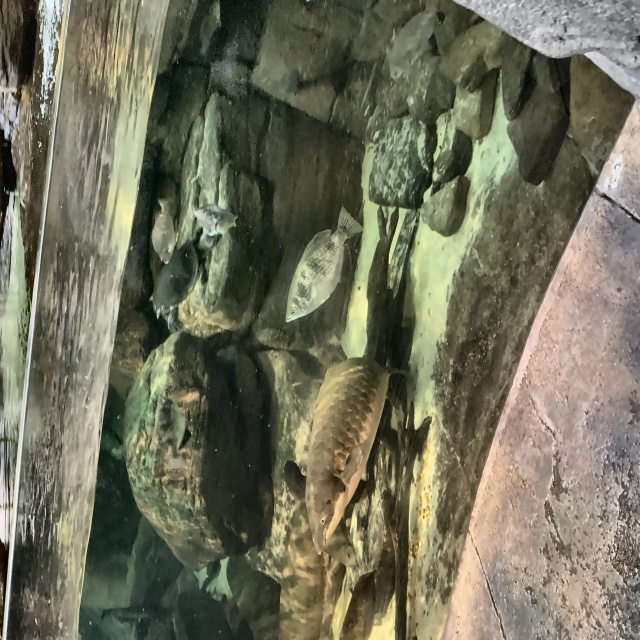fish: (303, 345, 391, 554), (282, 205, 366, 324), (388, 9, 444, 83), (148, 194, 182, 267), (187, 200, 239, 239), (327, 519, 358, 569)
